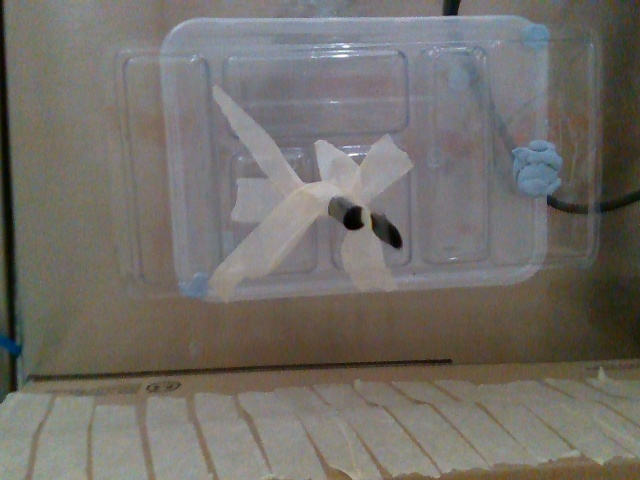test_strip: (356, 207, 403, 248)
